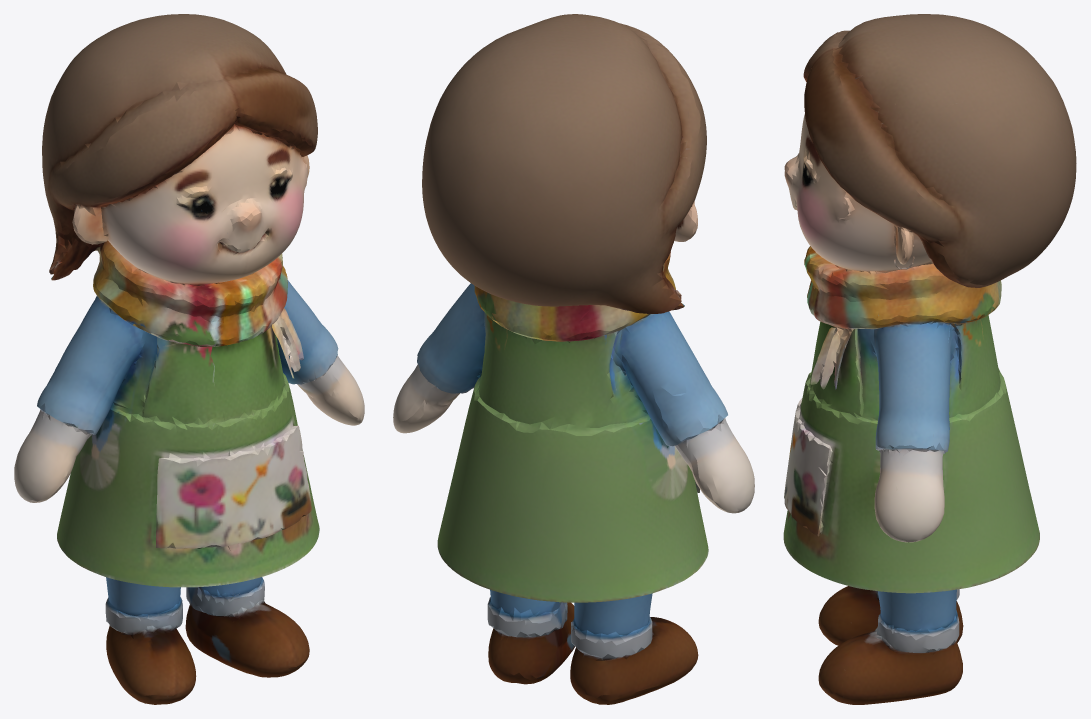
Rendered from zhuldyz_hyper3d.glb.
3 renders of one model, left to right at view 1: azimuth 30°, elevation 25°; view 2: azimuth 150°, elevation 25°; view 3: azimuth 270°, elevation 25°, orthographic. The views are drawn at different scales.
Visible parts, largest first — view 1: Zhuldyz_Hyper3D; view 2: Zhuldyz_Hyper3D; view 3: Zhuldyz_Hyper3D.
Part boxes in pixels (x1,y1,x2,y2): Zhuldyz_Hyper3D: [14, 14, 364, 704]; Zhuldyz_Hyper3D: [393, 14, 754, 704]; Zhuldyz_Hyper3D: [783, 14, 1076, 704].
Bounding box in the file's own units: 1.07 × 1.9 × 0.7911.
1 material, 1 textured.
